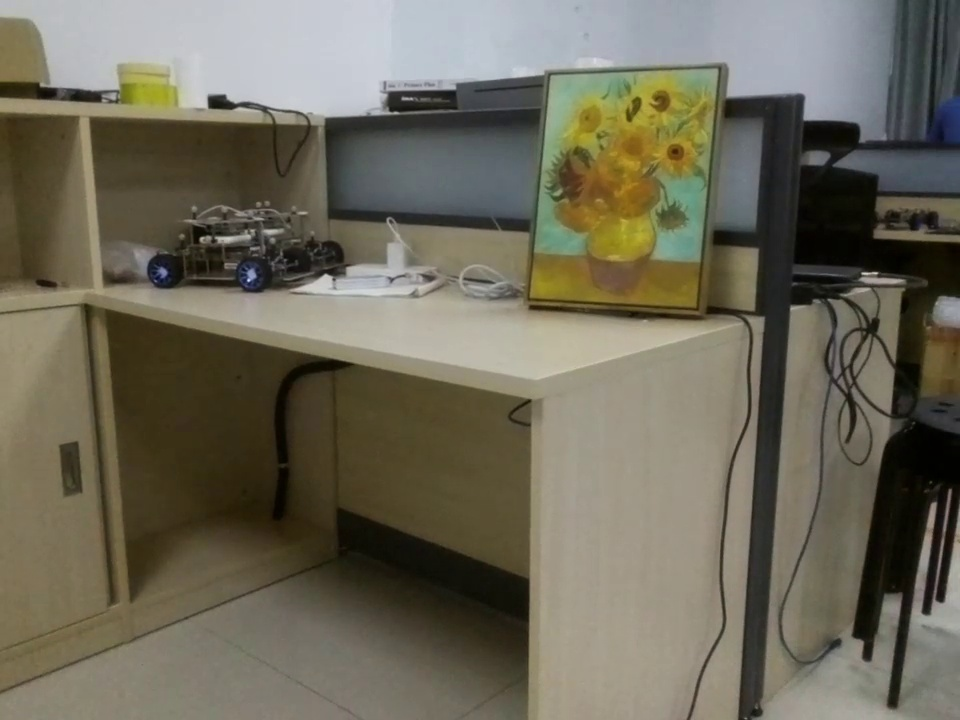painting: (529, 69, 729, 311)
